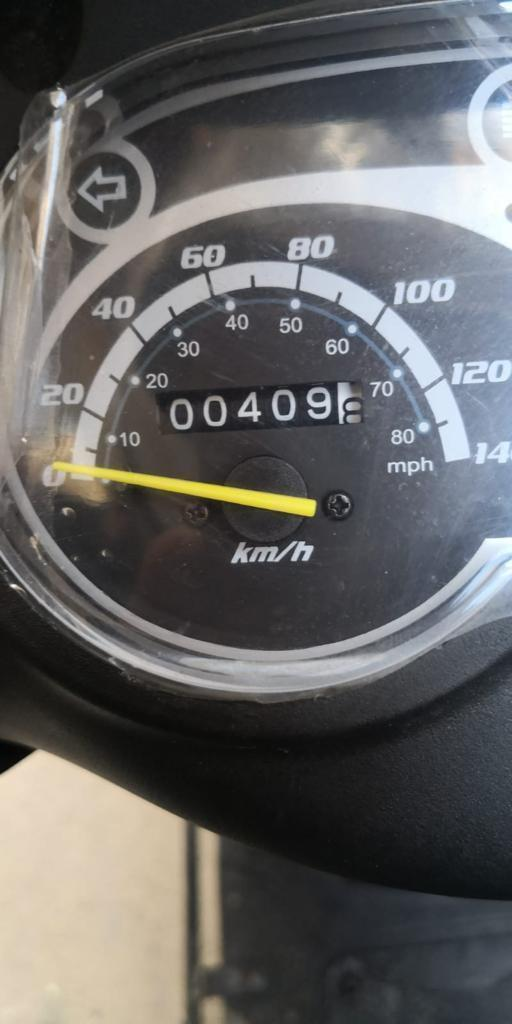0: (269, 387, 298, 423), (200, 392, 228, 429), (167, 395, 195, 432), (156, 376, 169, 389)
2: (152, 376, 156, 388)
4: (234, 388, 263, 425)
8: (340, 395, 366, 425)
9: (304, 384, 333, 421)
odometer: (152, 376, 369, 437)
